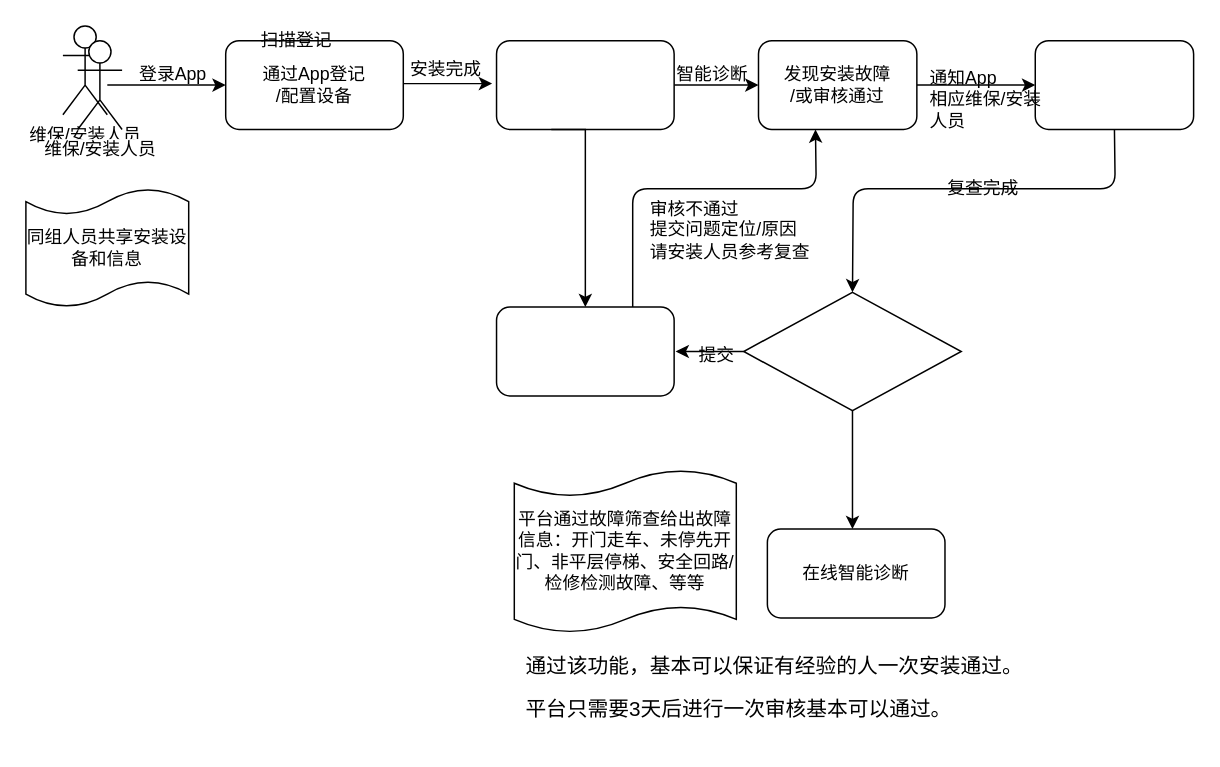
Some shapes in this 1220 by 767 pixel diagram are drawn without their labels. Here are the shapes that lost their labels. From the top down, the centre of each, then its label:
At [584,84]: "设备上线运行".
At [1114,84]: "安装/复查 拍照记录等".
At [584,351]: "在线审核".
At [851,351]: "是/否提交审核".
